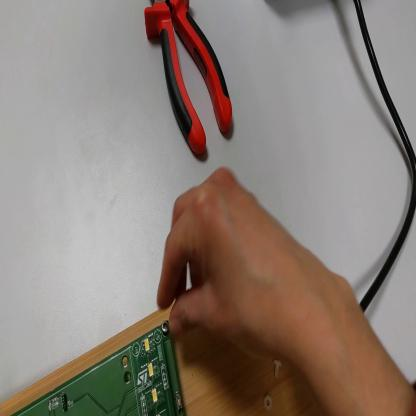hand: (159, 168, 296, 357)
low voltage board: (14, 326, 187, 416)
pliers: (145, 2, 235, 158)
working area: (2, 305, 325, 416)
